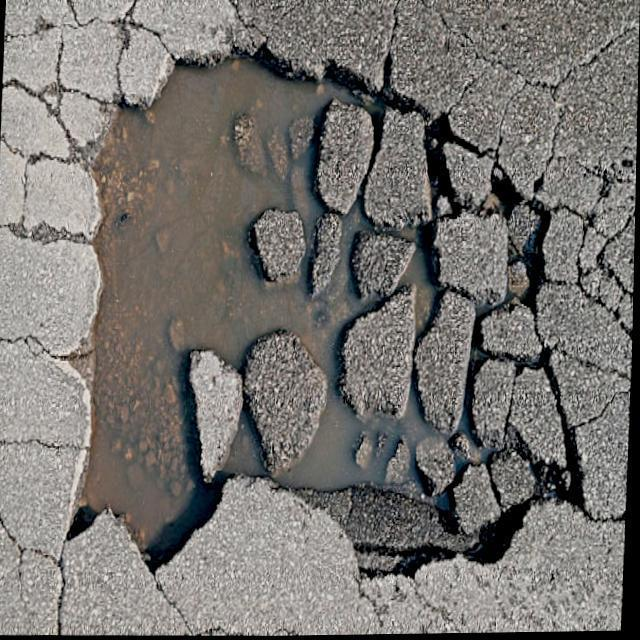Pothole: (75, 54, 587, 577)
